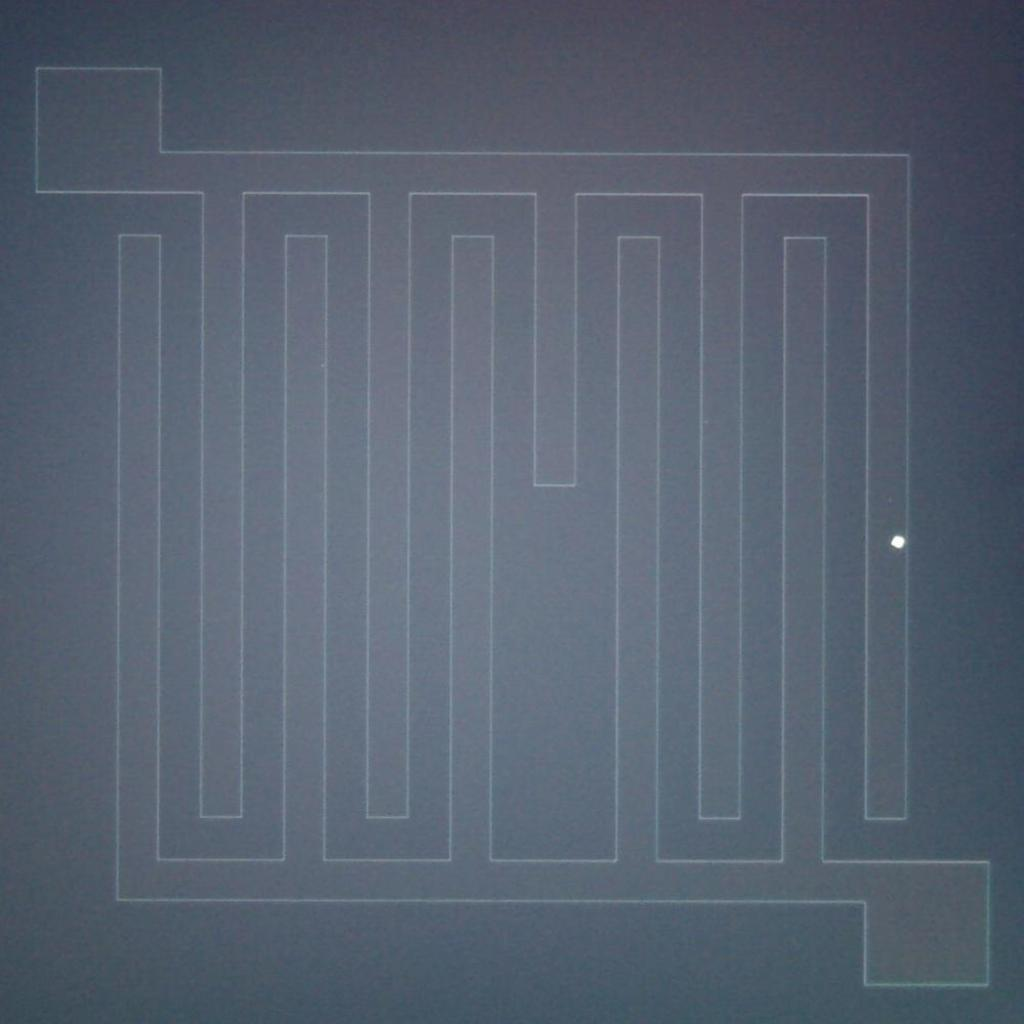dot: (890, 535, 904, 548), (320, 363, 324, 367)
